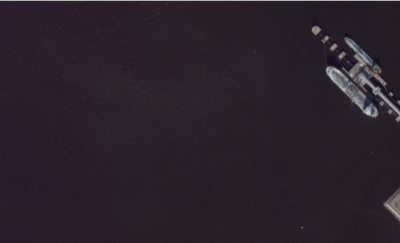boat: (325, 66, 379, 118), (344, 36, 382, 73), (301, 226, 303, 228)
